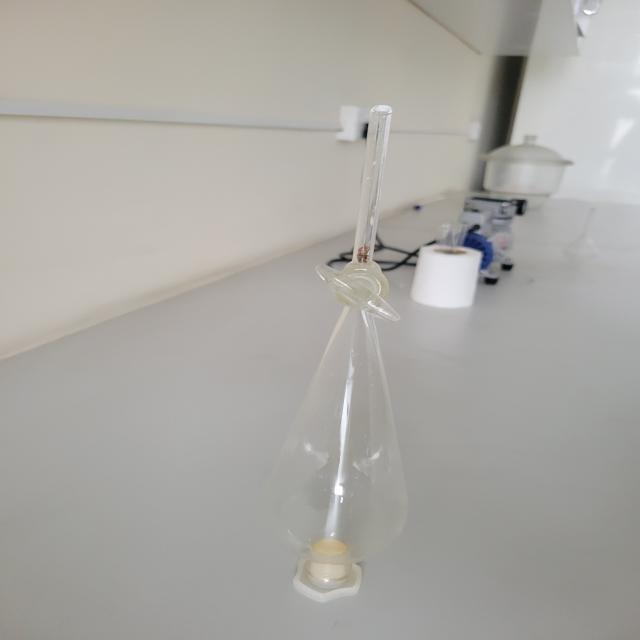Separating_Funnel: (261, 59, 438, 617)
